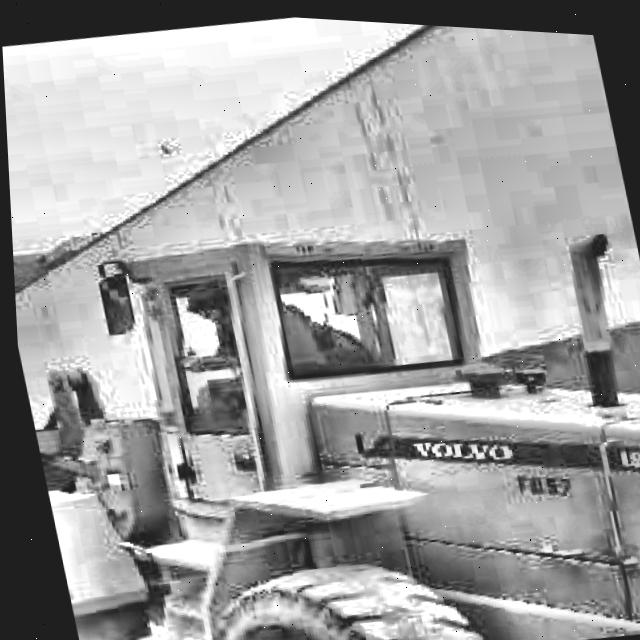buldozerpayloadergrader: (6, 138, 640, 640)
